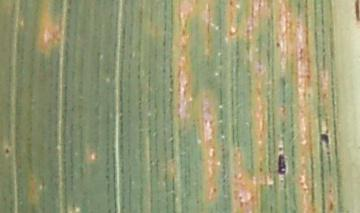tarspot: (278, 153, 286, 177), (319, 132, 330, 148), (275, 41, 281, 48), (277, 145, 283, 151), (5, 148, 10, 155), (212, 186, 217, 193)
